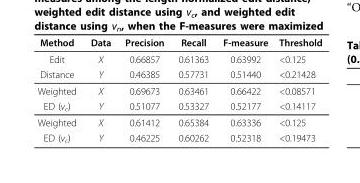table: (36, 36, 321, 143)
table column: (215, 36, 272, 143), (117, 36, 170, 143), (272, 36, 321, 143), (36, 36, 82, 143), (170, 36, 215, 143), (82, 36, 117, 143)
table column header: (36, 36, 321, 50)
table row: (36, 50, 321, 66), (36, 66, 321, 82), (36, 82, 321, 98), (36, 98, 321, 114), (36, 114, 321, 129), (36, 36, 321, 50), (36, 129, 321, 143)
